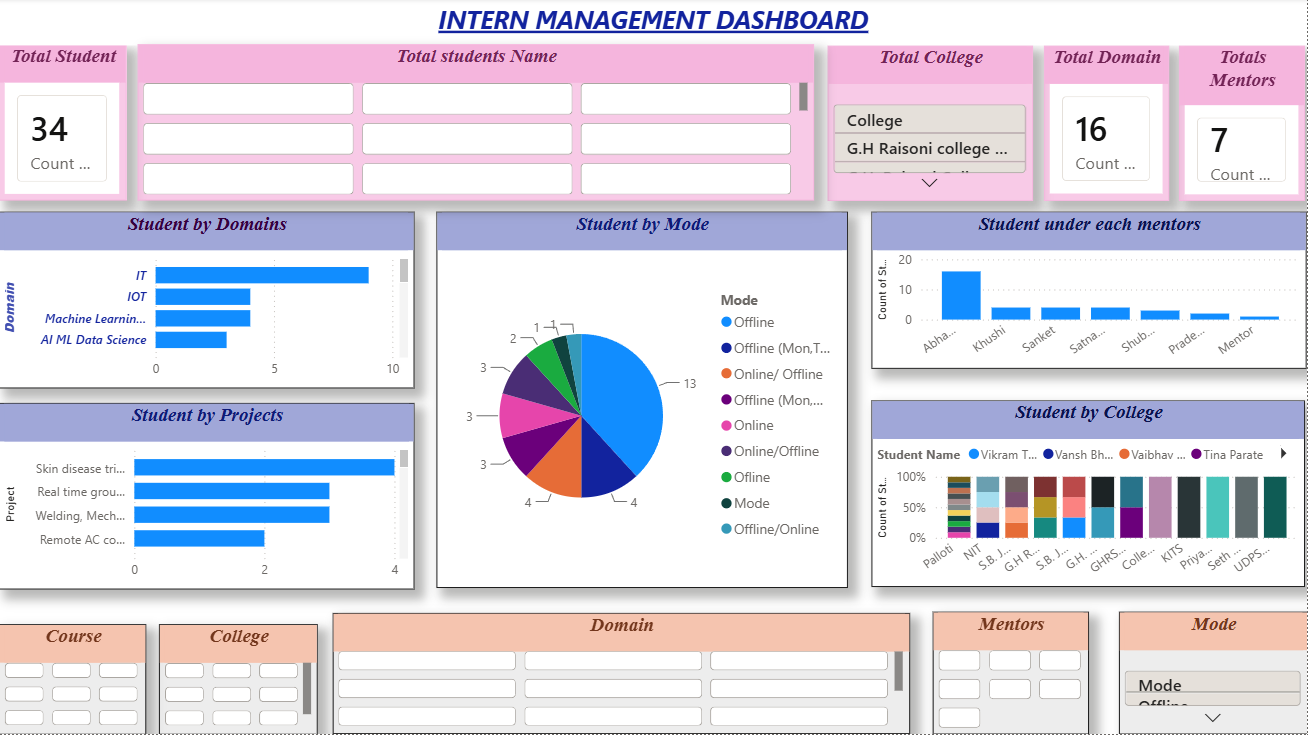

This screenshot's page, from the dashboard's own definition file:
{"tool":"powerbi","page":{"name":"Page 1","canvas":[1280,720],"ordinal":0},"visuals":[{"type":"cardVisual","title":"Total Student","fields":{"Data":["CountNonNull(Sheet1.Column1)"]},"box":[0,45.2,124.7,152.9],"z":0},{"type":"cardVisual","title":"Total College","fields":{"Rows":["Sheet1.Column3"],"Data":["Count(Sheet1.Column3)"]},"box":[810.7,46.5,200.5,151.6],"z":1000},{"type":"cardVisual","title":"Total Domain","fields":{"Data":["Count(Sheet1.Column4)"]},"box":[1022.3,46.5,122.3,151.6],"z":2000},{"type":"cardVisual","title":" Totals Mentors","fields":{"Data":["Count(Sheet1.Column7)"]},"box":[1154.4,46.5,123.5,151.6],"z":3000},{"type":"clusteredBarChart","title":"Student by Domains","fields":{"Category":["Sheet1.Column4"],"Y":["CountNonNull(Sheet1.Column1)"]},"box":[0,208.8,406.2,172.9],"z":4000},{"type":"hundredPercentStackedColumnChart","title":"Student by College","fields":{"Category":["Sheet1.Column3"],"Series":["open it.Student Name"],"Y":["CountNonNull(open it.Student Name)"]},"box":[853.5,393.8,424,182.5],"z":5000},{"type":"clusteredBarChart","title":"Student by Projects","fields":{"Category":["Sheet1.Column5"],"Y":["CountNonNull(Sheet1.Column1)"]},"box":[0,396.2,406.2,182.5],"z":6000},{"type":"pieChart","title":"Student by Mode","fields":{"Category":["Sheet1.Column6"],"Y":["CountNonNull(Sheet1.Column1)"]},"box":[427.5,208.8,402.1,367.8],"z":7000},{"type":"clusteredColumnChart","title":"Student under each mentors","fields":{"Category":["Sheet1.Column7"],"Y":["CountNonNull(Sheet1.Column1)"]},"box":[853.5,208.6,425.4,153.7],"z":8000},{"type":"advancedSlicerVisual","title":"Course","fields":{"Values":["Sheet1.Column2"]},"box":[0,612.6,144.3,107.6],"z":9000},{"type":"advancedSlicerVisual","title":"College","fields":{"Values":["Sheet1.Column3"]},"box":[156.5,612.6,155.3,107.6],"z":10000},{"type":"advancedSlicerVisual","title":"Domain","fields":{"Values":["Sheet1.Column4"]},"box":[326.5,601.6,564.9,118.6],"z":11000},{"type":"cardVisual","title":"Mode","fields":{"Rows":["Sheet1.Column6"],"Data":["Min(Sheet1.Column6)"]},"box":[1095.7,600.4,184.6,119.8],"z":12000},{"type":"advancedSlicerVisual","title":"Mentors","fields":{"Values":["Sheet1.Column7"]},"box":[913.5,600.4,152.9,119.8],"z":13000},{"type":"textbox","box":[0,0,1280.3,46.7],"z":14000},{"type":"advancedSlicerVisual","title":"Total students Name","fields":{"Values":["Sheet1.Column1"]},"box":[135.7,45.2,661.6,152.9],"z":15000}]}

Visuals, with their boxes in screenshot pixels (x1, y1, x2, y2), scaled from the page's 1280x720 canvas onto the 1308x735 screenshot:
"Total Student" cardVisual: 0,46,127,202
"Total College" cardVisual: 828,47,1033,202
"Total Domain" cardVisual: 1045,47,1170,202
" Totals Mentors" cardVisual: 1180,47,1306,202
"Student by Domains" clusteredBarChart: 0,213,415,390
"Student by College" hundredPercentStackedColumnChart: 872,402,1305,588
"Student by Projects" clusteredBarChart: 0,404,415,591
"Student by Mode" pieChart: 437,213,848,589
"Student under each mentors" clusteredColumnChart: 872,213,1307,370
"Course" advancedSlicerVisual: 0,625,147,734
"College" advancedSlicerVisual: 160,625,319,734
"Domain" advancedSlicerVisual: 334,614,911,734
"Mode" cardVisual: 1120,613,1307,734
"Mentors" advancedSlicerVisual: 933,613,1090,734
textbox: 0,0,1307,48
"Total students Name" advancedSlicerVisual: 139,46,815,202
